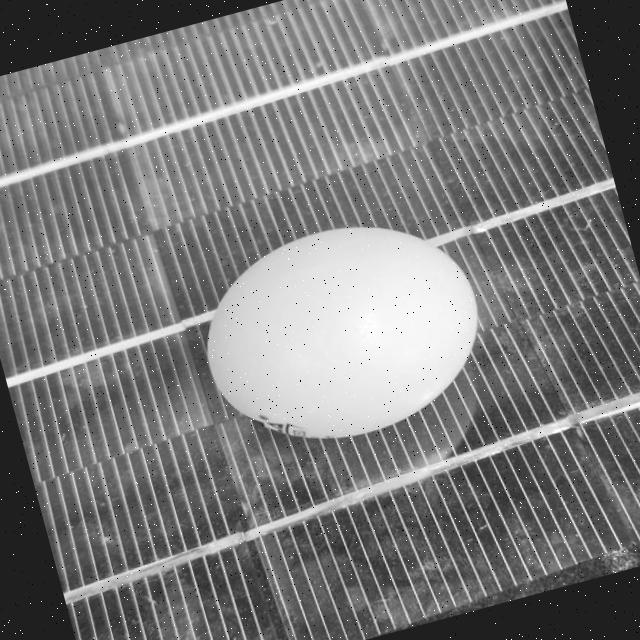ping-pong-ball: (160, 178, 524, 478)
